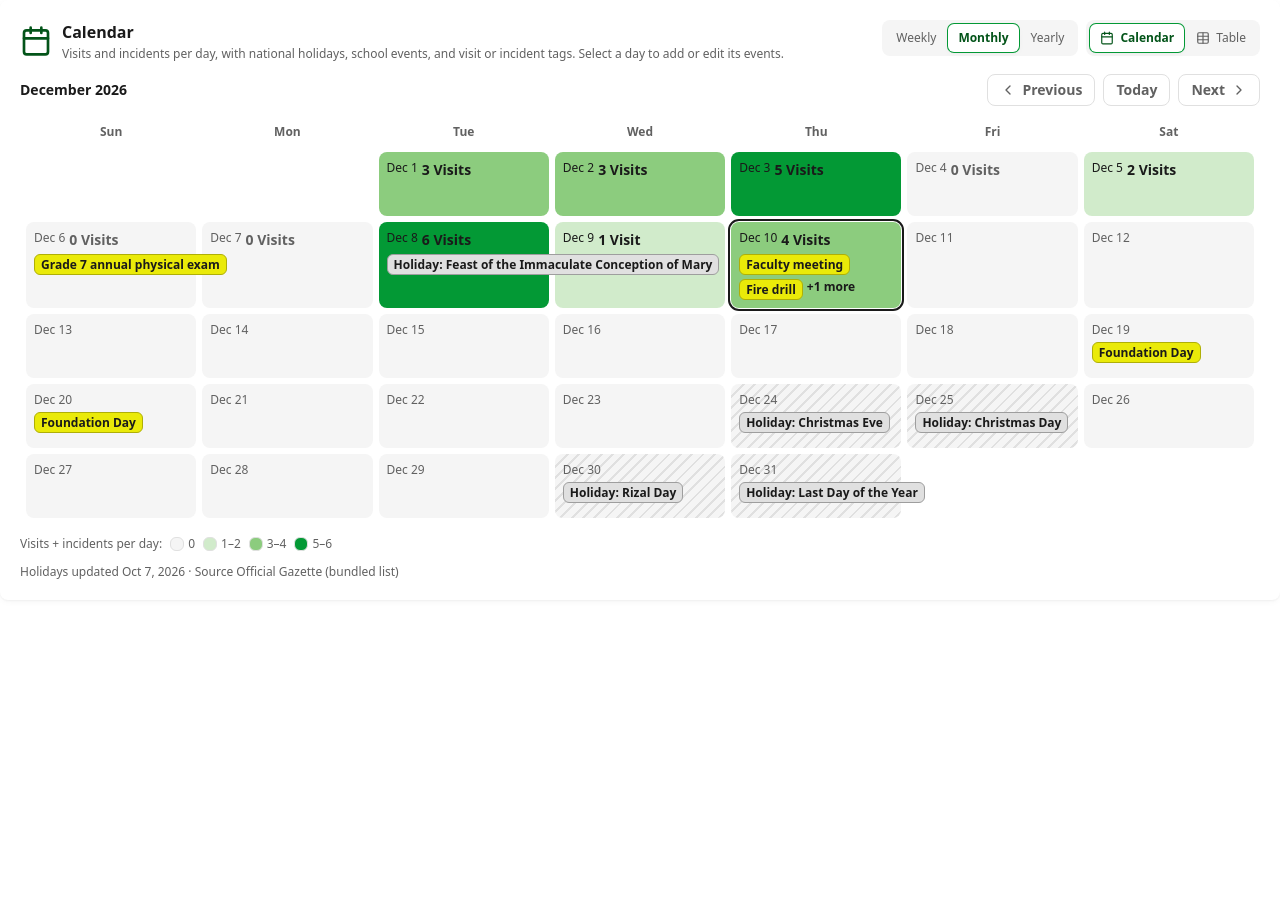
Test: Dashboard calendar holiday layer (ADR-020) › includes holidays in the Week, Year, and Table views
Click the radio button labelled "Weekly" at {"x": 916, "y": 38}, box left=886, top=24, right=946, bottom=52
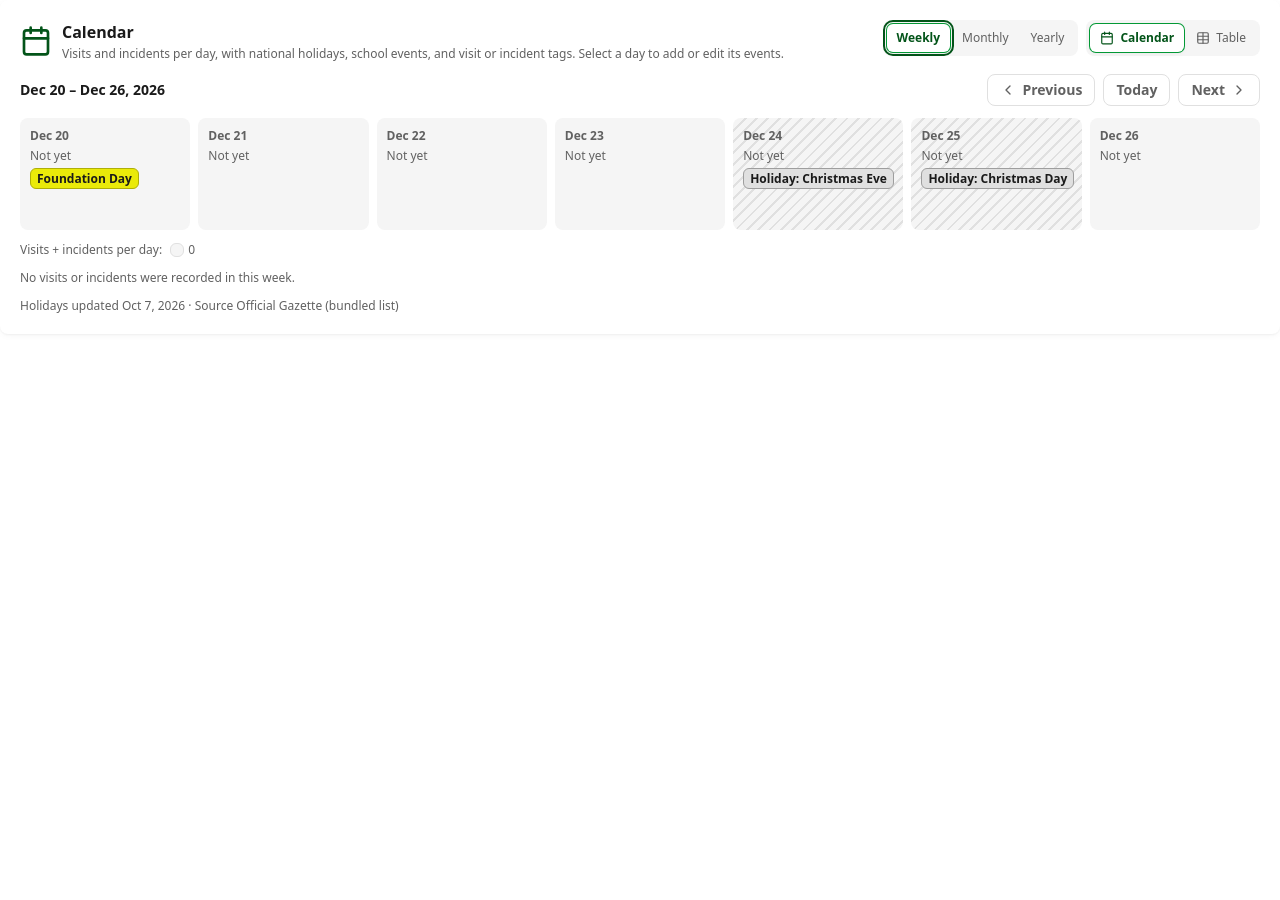
Expected: the text "Holiday: Christmas Eve" is shown, left=743, top=168, right=894, bottom=189
Click the radio button labelled "Yearly" at {"x": 1048, "y": 38}, box left=1021, top=24, right=1074, bottom=52
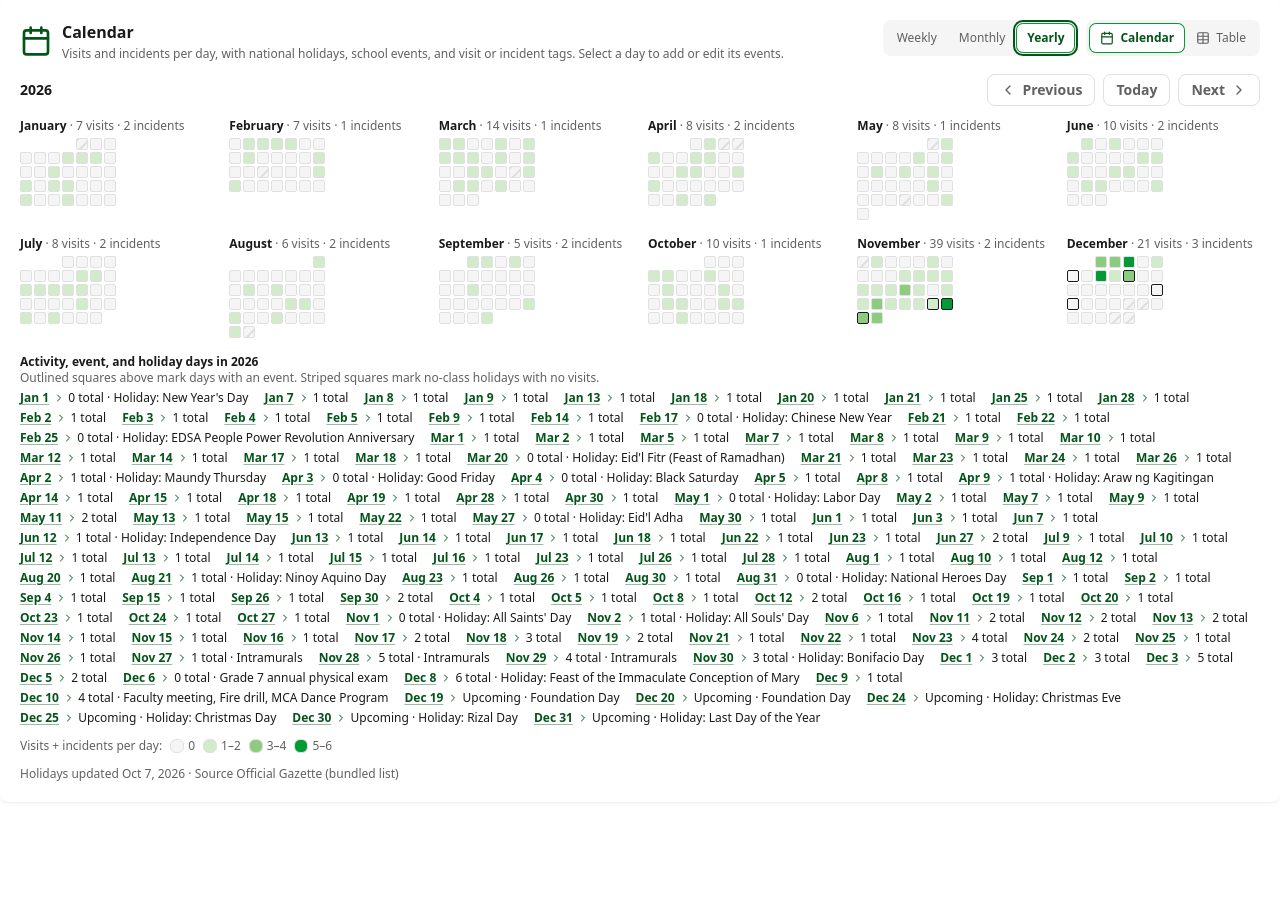
Now the list item "Apr 9 1 total · Holiday: Araw ng Kagitingan" is shown, box left=959, top=470, right=1214, bottom=486
Click the radio button labelled "Table" at {"x": 1221, "y": 38}, box left=1186, top=24, right=1256, bottom=52
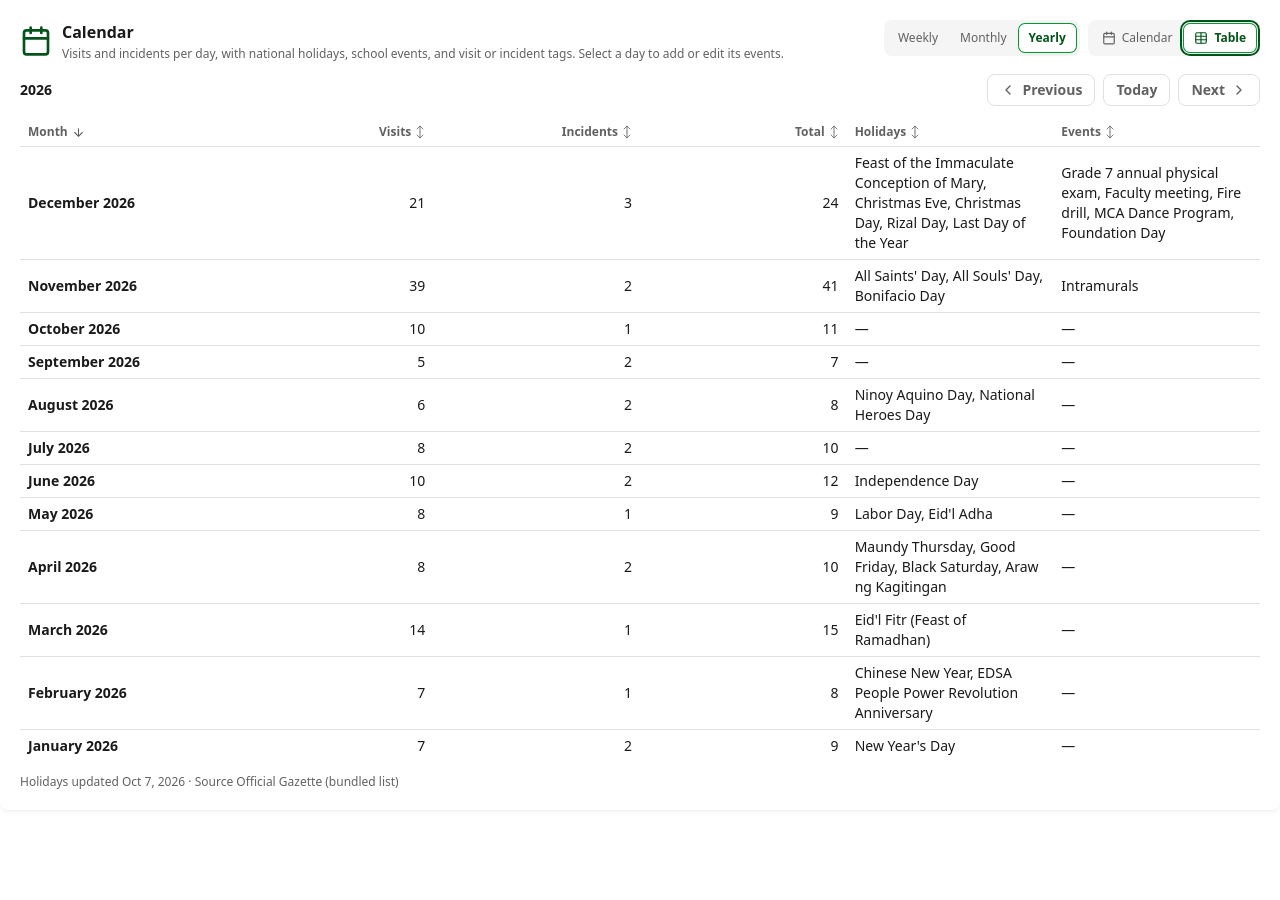
Now the column heading "Holidays" is shown, box left=847, top=118, right=1053, bottom=146
Now the text "Christmas Eve, Christmas Day, Rizal Day, Last Day of the Year" is shown, box left=855, top=153, right=1025, bottom=252
